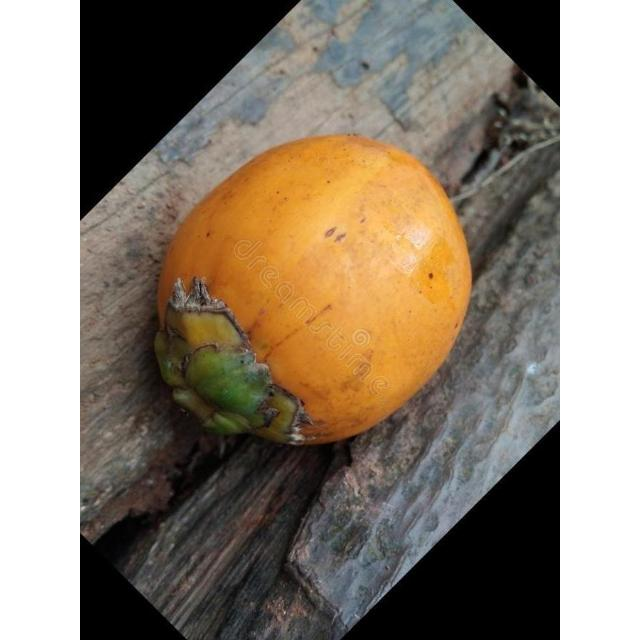good: (153, 135, 473, 448)
